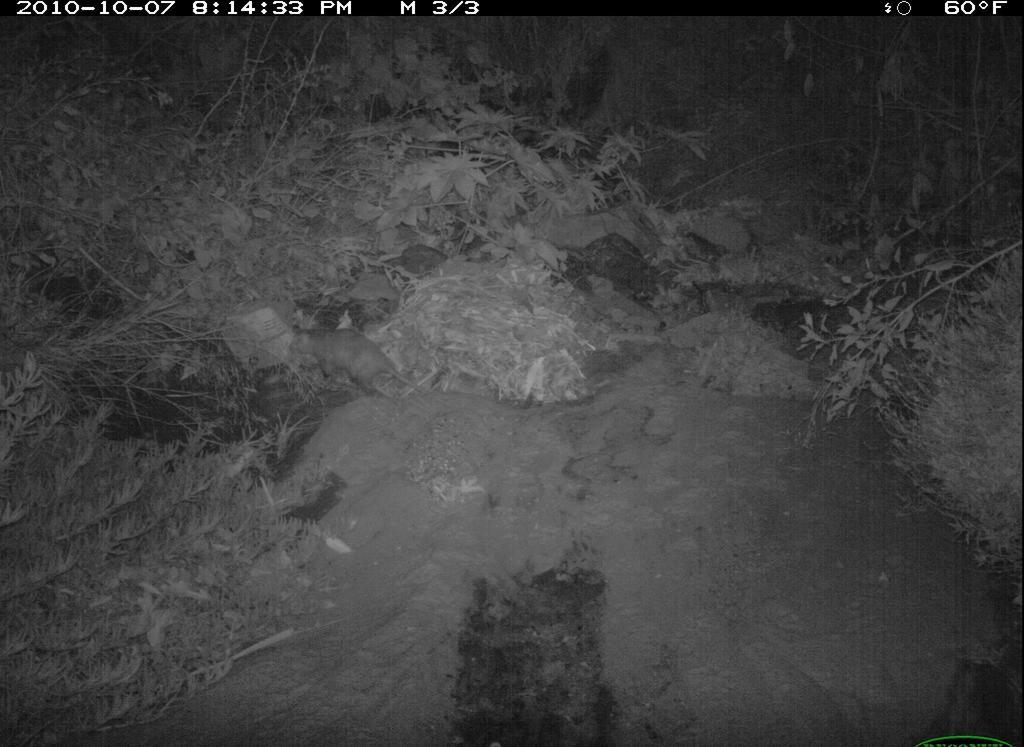opossum: (274, 304, 437, 409)
